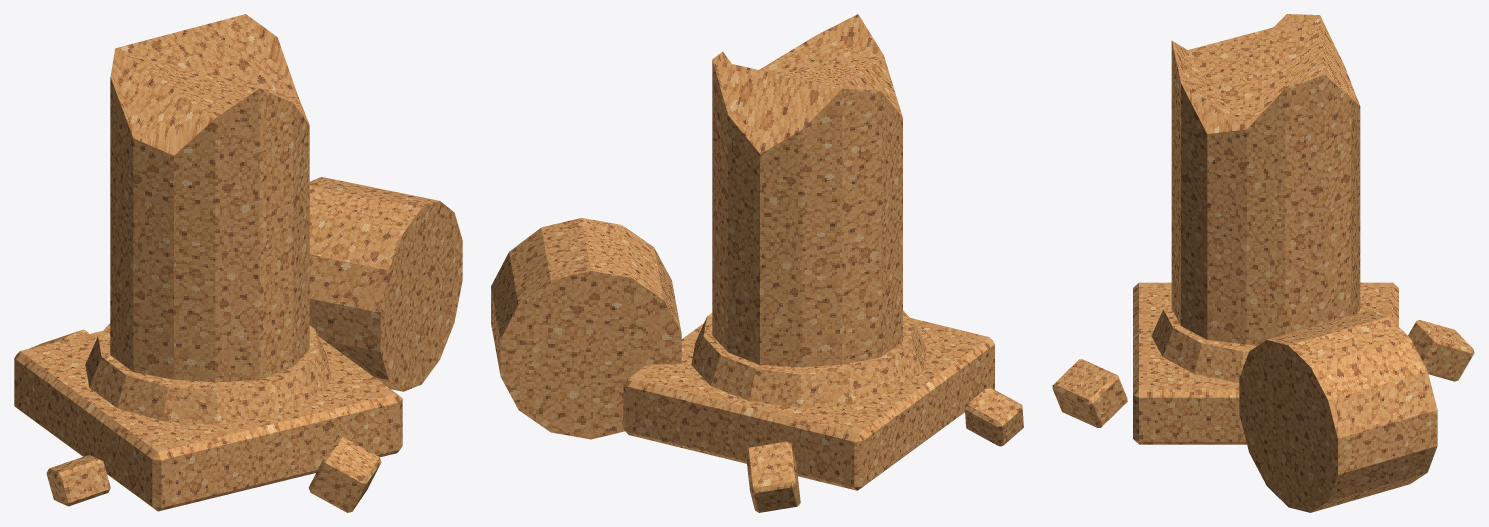
Rendered from ruins_column.glb.
3 views of the same model, side by side, from view 1: azimuth 30°, elevation 25°; view 2: azimuth 150°, elevation 25°; view 3: azimuth 270°, elevation 25° (orthographic). The views are drawn at different scales.
Parts seen in each view (by area): view 1: Column; view 2: Column; view 3: Column.
Boxes of the visible parts, box(x1,y1,x2,y2) form: Column: box(14, 14, 462, 512); Column: box(491, 14, 1023, 512); Column: box(1052, 14, 1474, 512).
Size of the model in its own units: 4.23 by 3.34 by 3.49.
Materials: 1 (1 with a texture image).
